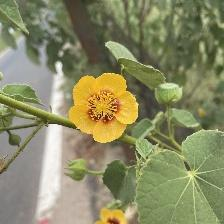indian mallow: (69, 72, 141, 143)
